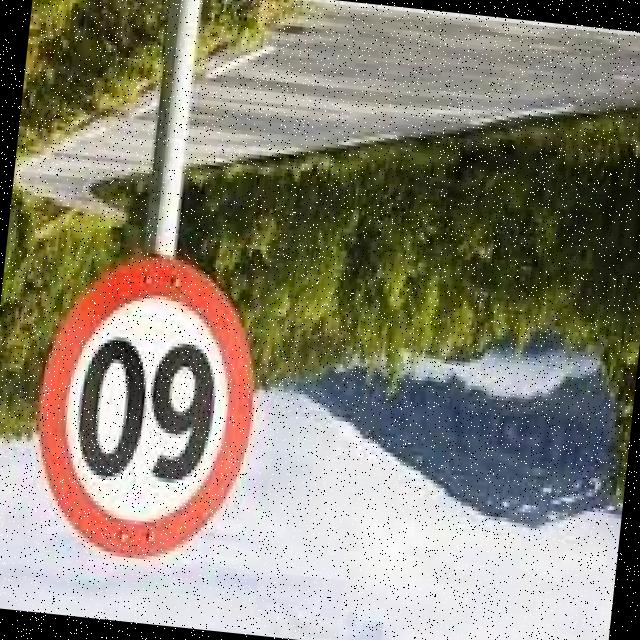speed_limit_60: (19, 242, 274, 580)
